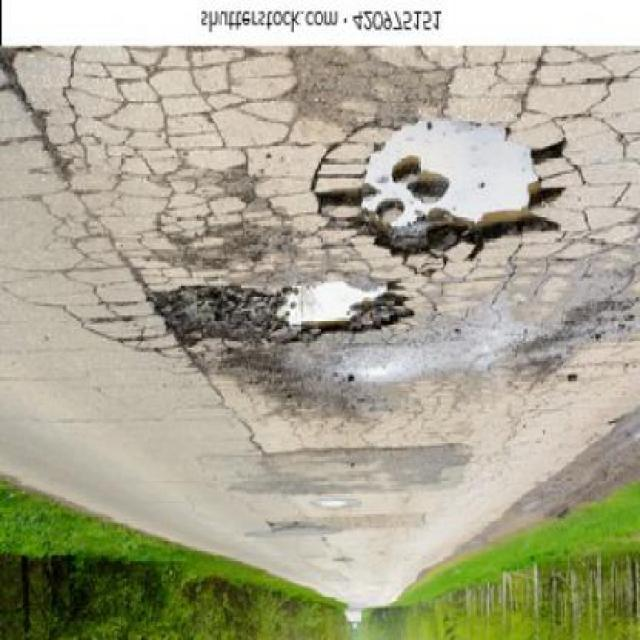Pothole: (320, 112, 569, 266), (143, 275, 416, 347)
